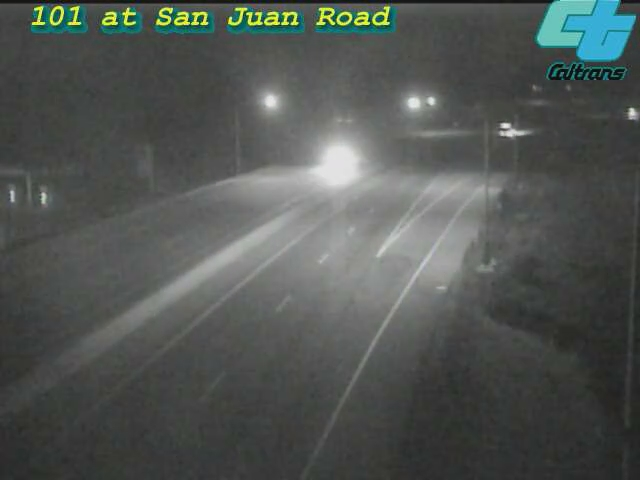vehicle: (292, 123, 372, 203), (494, 102, 544, 152)
